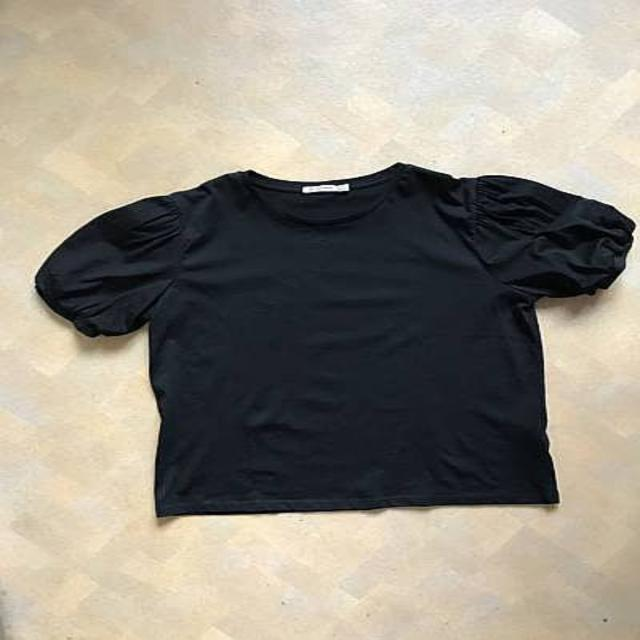T_SHIRT: (28, 156, 640, 525)
